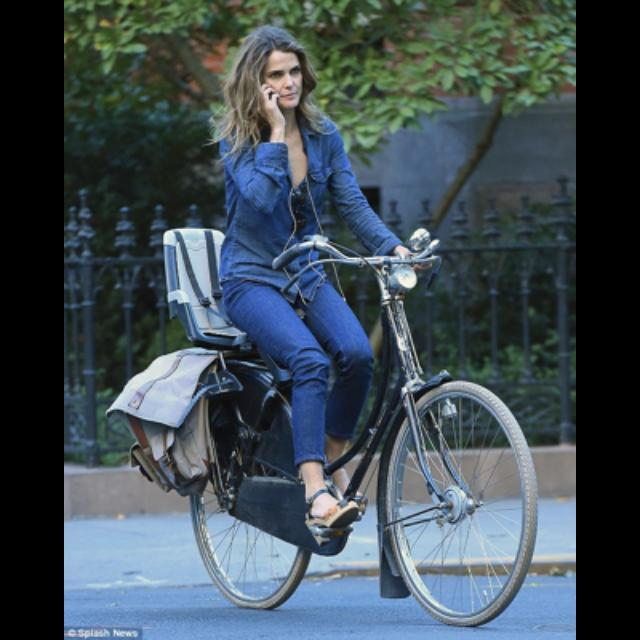Without Helmet: (235, 22, 323, 128)
